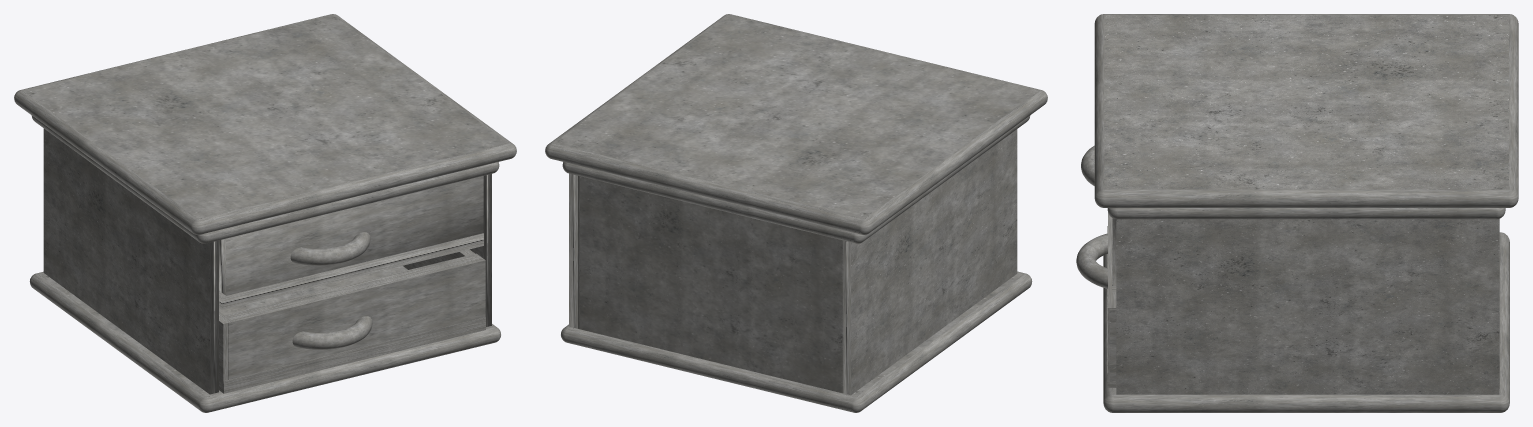
The picture shows the model from 3 angles, left to right: view 1: azimuth 30°, elevation 25°; view 2: azimuth 150°, elevation 25°; view 3: azimuth 270°, elevation 25°; orthographic projection. The views are drawn at different scales.
Visible parts, largest first — view 1: cube_2, back; view 2: cube_2; view 3: cube_2, back.
Boxes of the visible parts, x1,y1,x2,y2 form: cube_2: (14, 14, 516, 412); back: (219, 249, 485, 393); cube_2: (545, 14, 1047, 412); cube_2: (1081, 14, 1518, 412); back: (1076, 213, 1116, 387).
Size of the model in its own units: 406 by 237 by 415.
Materials: 1 (1 with a texture image).
